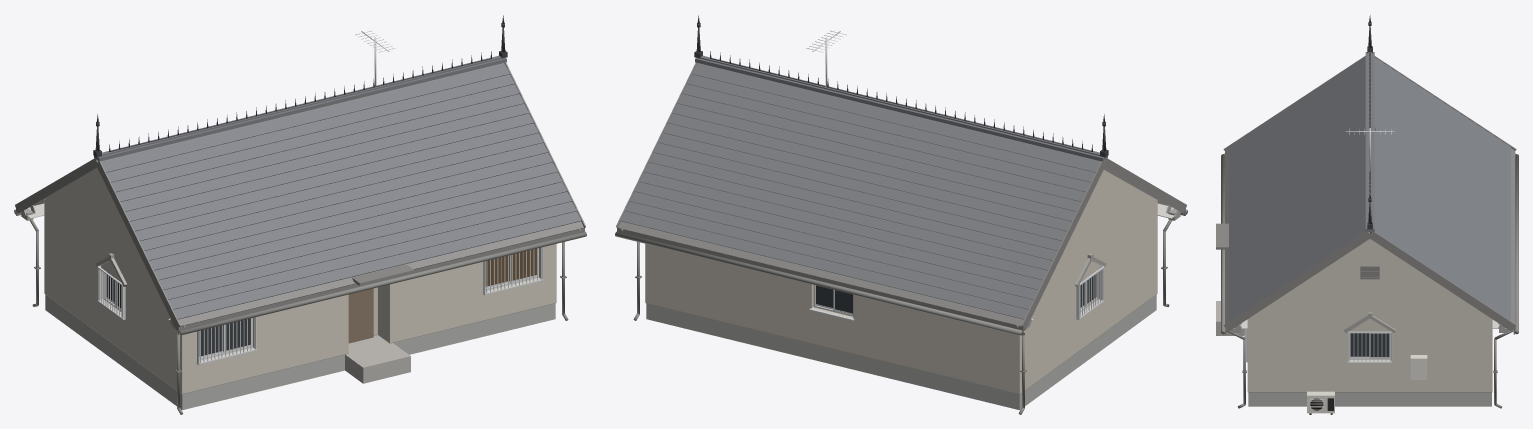
File: blk_residence02.glb
The picture shows the model from 3 angles, left to right: view 1: azimuth 30°, elevation 25°; view 2: azimuth 150°, elevation 25°; view 3: azimuth 270°, elevation 25°; orthographic projection. The views are drawn at different scales.
Visible parts, largest first — view 1: blk_residence02; view 2: blk_residence02; view 3: blk_residence02.
Boxes of the visible parts, bbox=[...] form: blk_residence02: bbox=[14, 15, 586, 414]; blk_residence02: bbox=[615, 15, 1187, 414]; blk_residence02: bbox=[1216, 15, 1518, 414].
Size of the model in its own units: 12.14 by 7.24 by 8.65.
